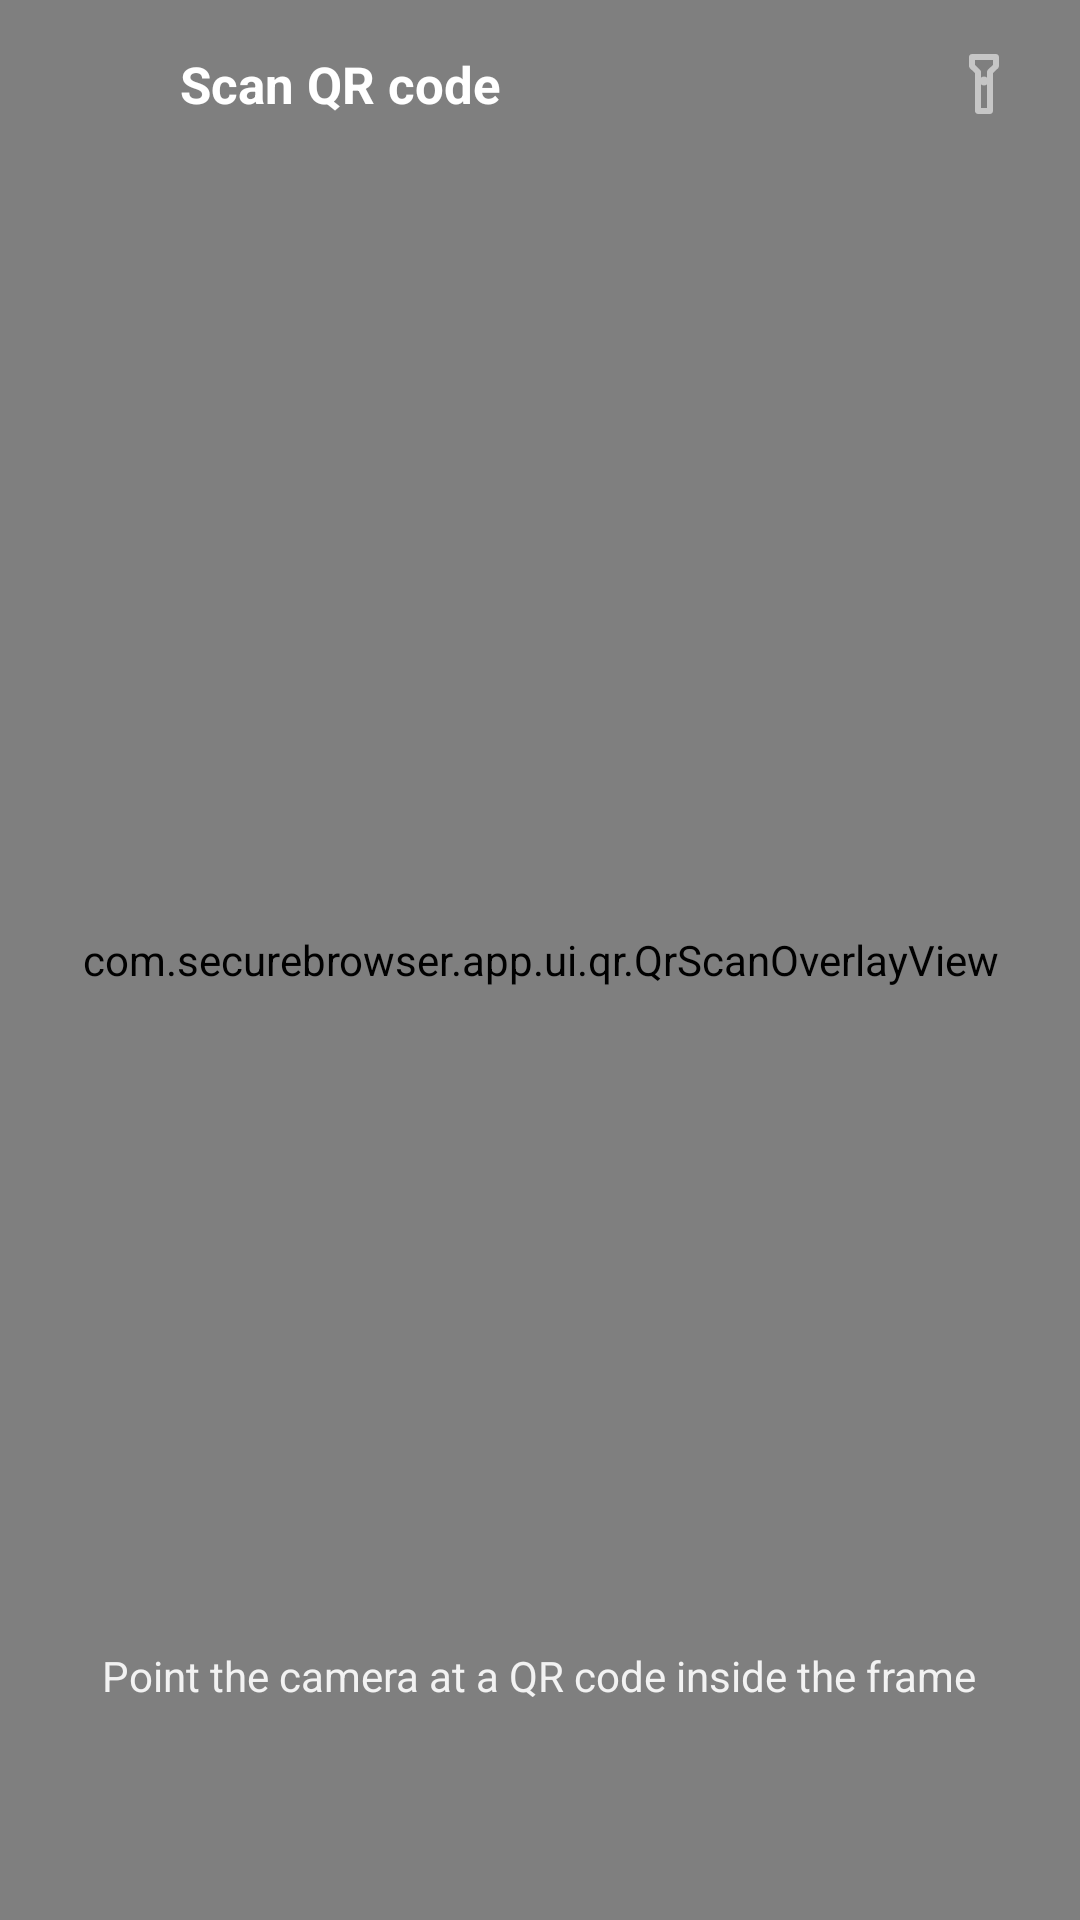

Named icons in this screenshot (1080x1920) and their bounding boxes, (x1, y1, x2, y2):
Flashlight: (969, 54, 999, 114)
